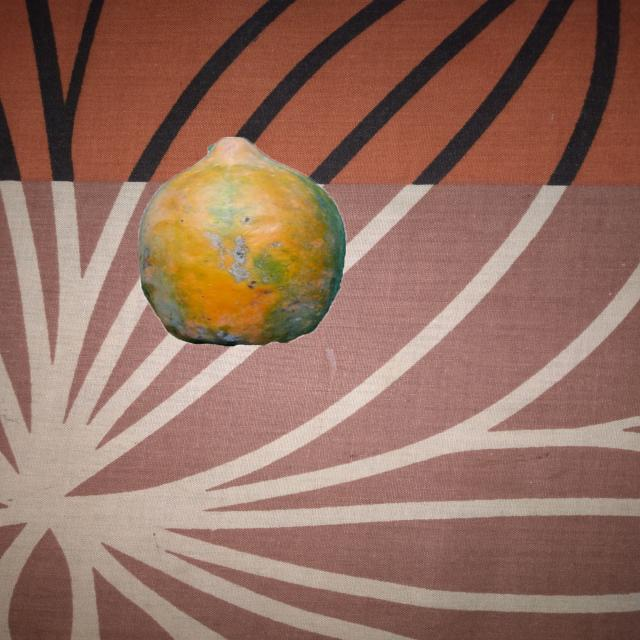Pepaya rippen: (138, 128, 338, 350)
